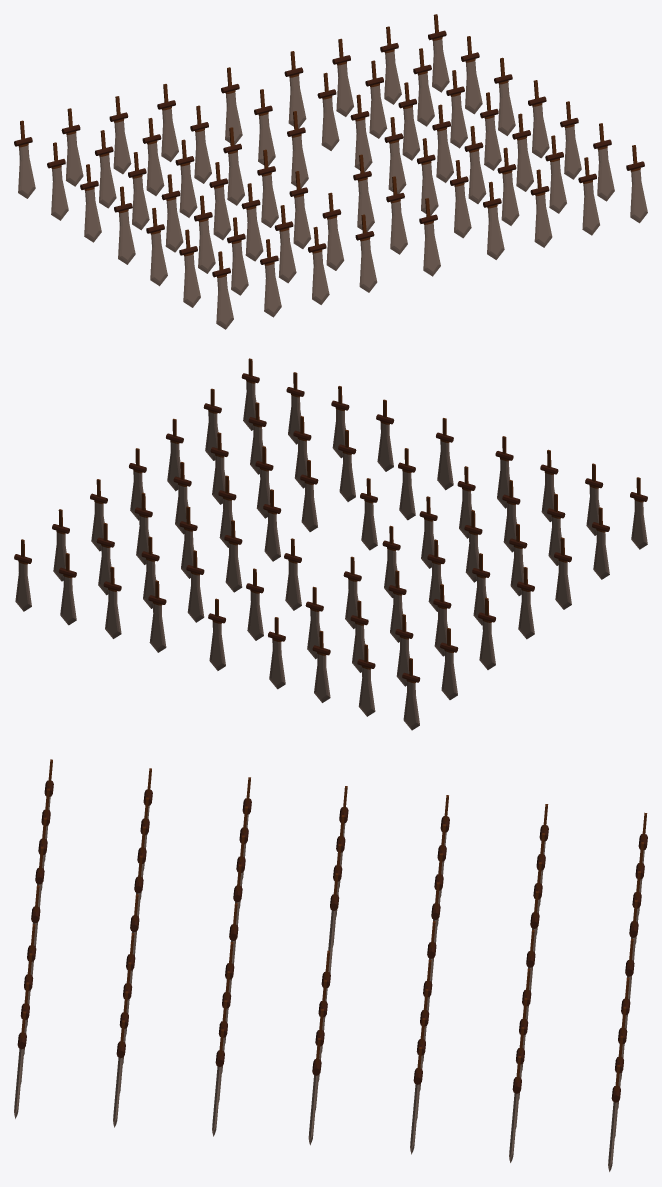
The model's file is Sword_attack.fbx.
The picture shows the model from 3 angles, top to bottom: view 1: azimuth 30°, elevation 25°; view 2: azimuth 150°, elevation 25°; view 3: azimuth 270°, elevation 25°; orthographic projection. The views are drawn at different scales.
Parts seen in each view (by area): view 1: Sword5, Sword11, Sword4, Sword44, Sword51, Sword14, Sword22, Sword23, Sword33, Sword61, Sword2, Sword3 (+50 smaller); view 2: Sword50, Sword51, Sword54, Sword52, Sword48, Sword18, Sword55, Sword17, Sword19, Sword8, Sword16, Sword49 (+50 smaller); view 3: no part large enough to name.
Boxes of the visible parts, bbox=[...] form: Sword5: bbox=[161, 174, 183, 252]; Sword11: bbox=[241, 183, 263, 261]; Sword4: bbox=[432, 104, 453, 182]; Sword44: bbox=[317, 72, 339, 150]; Sword51: bbox=[109, 96, 131, 174]; Sword14: bbox=[512, 113, 533, 191]; Sword22: bbox=[227, 217, 248, 295]; Sword23: bbox=[497, 147, 519, 225]; Sword33: bbox=[175, 139, 197, 217]; Sword61: bbox=[355, 214, 377, 292]; Sword2: bbox=[257, 149, 278, 227]; Sword3: bbox=[209, 162, 231, 240]; Sword50: bbox=[103, 566, 121, 638]; Sword51: bbox=[312, 630, 330, 702]; Sword54: bbox=[436, 418, 453, 490]; Sword52: bbox=[268, 617, 285, 689]; Sword48: bbox=[58, 553, 76, 625]; Sword18: bbox=[398, 448, 415, 520]; Sword55: bbox=[630, 477, 647, 549]; Sword17: bbox=[360, 478, 377, 550]; Sword19: bbox=[592, 507, 609, 579]; Sword8: bbox=[517, 567, 534, 639]; Sword16: bbox=[554, 537, 571, 609]; Sword49: bbox=[357, 644, 375, 716].
Bounding box in the file's own units: 28.19 × 7.47 × 25.51.
